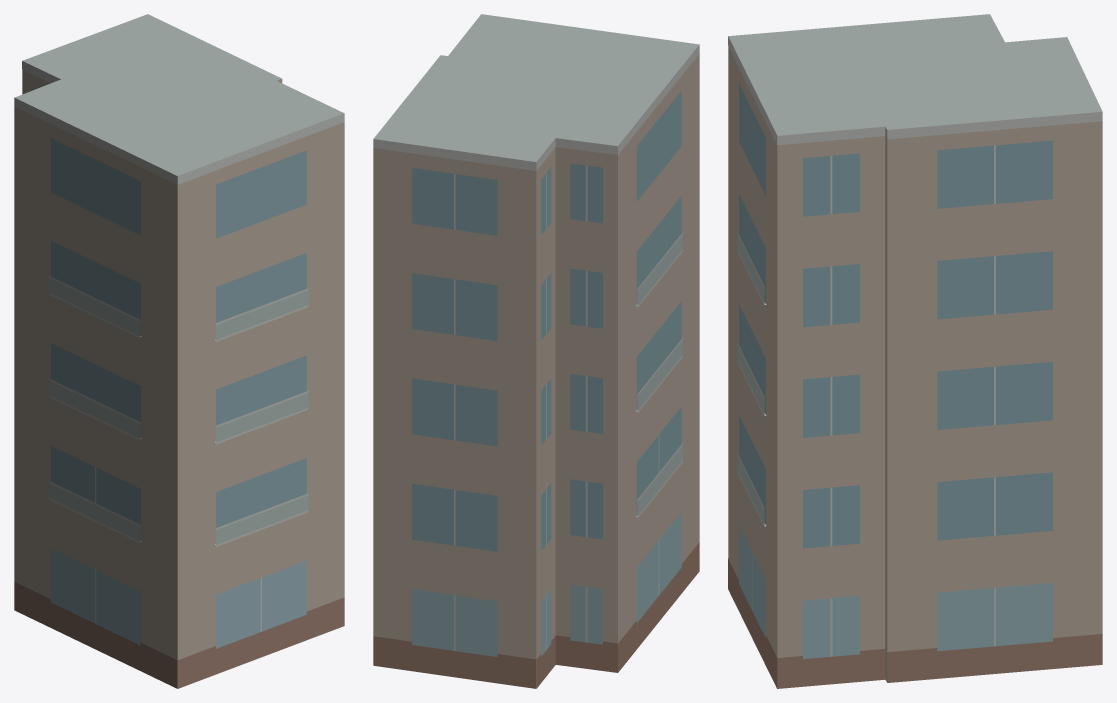
File: survey-upis-32967560.glb
3 views of the same model, side by side, from view 1: azimuth 30°, elevation 25°; view 2: azimuth 150°, elevation 25°; view 3: azimuth 270°, elevation 25° (orthographic). The views are drawn at different scales.
Visible parts, largest first — view 1: survey-upis-32967560.tmp; view 2: survey-upis-32967560.tmp; view 3: survey-upis-32967560.tmp.
Part boxes in pixels (x1=…): survey-upis-32967560.tmp: x1=14, y1=14, x2=344, y2=688; survey-upis-32967560.tmp: x1=373, y1=14, x2=699, y2=688; survey-upis-32967560.tmp: x1=728, y1=14, x2=1102, y2=688.
Size of the model in its own units: 6.82 by 14.4 by 8.85.
